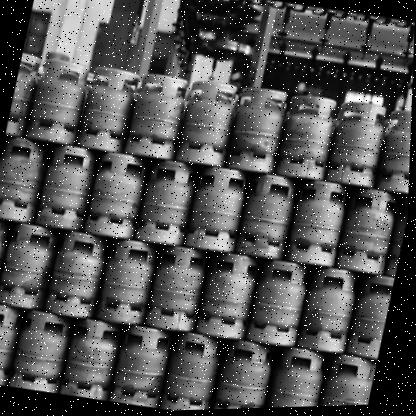gas-tank: (217, 69, 296, 188), (285, 171, 367, 276), (292, 258, 375, 361), (20, 48, 98, 157), (247, 248, 325, 355), (194, 244, 272, 350), (271, 85, 345, 194), (143, 237, 217, 343), (90, 235, 166, 333), (131, 155, 205, 255), (185, 159, 257, 261), (173, 73, 244, 175), (70, 63, 142, 161), (237, 169, 309, 267), (83, 148, 154, 246), (35, 140, 106, 237), (0, 217, 70, 315), (60, 307, 132, 402), (323, 97, 391, 197), (162, 318, 235, 411), (111, 318, 184, 411), (121, 73, 192, 167), (339, 186, 409, 281), (10, 301, 81, 394), (47, 229, 115, 321), (212, 332, 285, 410), (0, 131, 57, 228), (344, 269, 397, 372), (264, 340, 341, 409), (368, 107, 412, 208), (4, 46, 47, 145), (315, 344, 382, 407), (0, 292, 29, 386), (0, 212, 18, 309)
